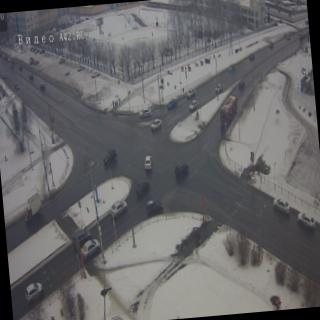large-vehicle: (217, 91, 240, 129), (17, 194, 47, 222)
small-vehicle: (67, 224, 93, 248), (24, 280, 44, 308), (78, 242, 104, 260), (272, 195, 292, 218), (299, 210, 319, 233), (146, 196, 165, 218), (136, 180, 152, 200), (174, 162, 190, 178), (110, 202, 128, 216), (103, 149, 118, 164), (137, 108, 153, 119), (151, 118, 164, 131), (143, 154, 152, 172), (165, 98, 178, 110), (184, 89, 198, 100), (12, 80, 22, 94), (227, 60, 235, 76), (10, 62, 19, 75), (38, 80, 48, 90), (248, 52, 256, 61), (216, 82, 223, 92), (270, 40, 276, 51), (28, 72, 36, 80), (240, 78, 245, 90), (282, 30, 290, 37), (189, 104, 201, 108), (2, 71, 8, 79), (286, 34, 292, 42)
